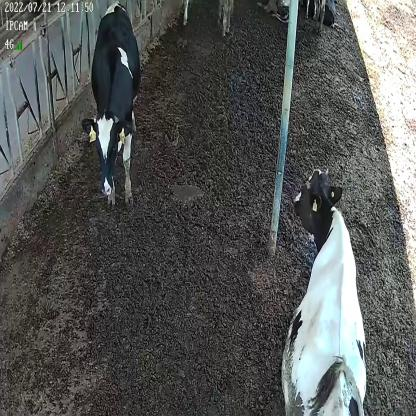cow: (279, 164, 370, 416), (80, 0, 142, 210)
